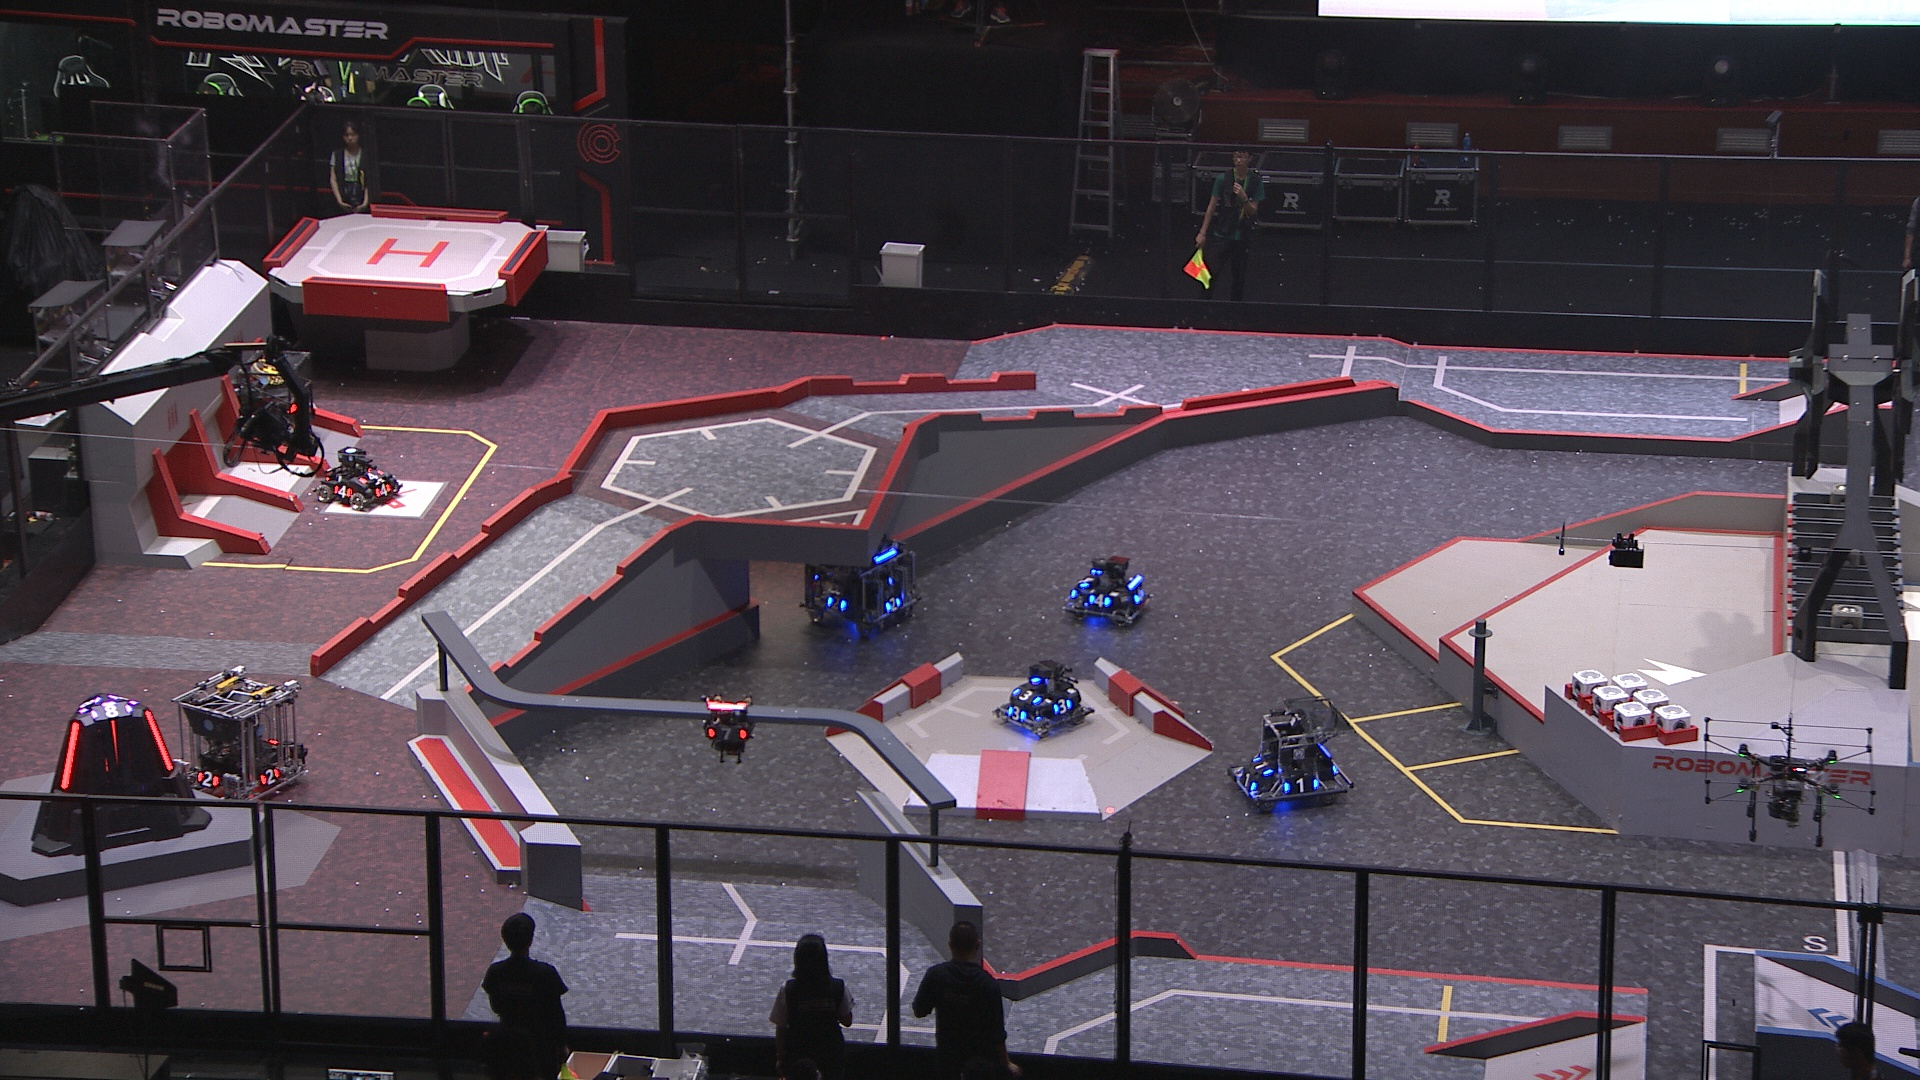armor: (57, 721, 82, 793), (144, 712, 171, 775), (704, 723, 750, 741), (1284, 777, 1321, 796), (107, 719, 120, 766), (823, 593, 851, 616), (1251, 756, 1273, 783), (193, 769, 222, 789), (1007, 688, 1040, 704), (1238, 770, 1259, 794), (258, 766, 282, 785), (330, 484, 353, 502), (1087, 591, 1112, 608), (357, 469, 382, 484), (373, 481, 392, 498), (1131, 585, 1147, 605), (1054, 698, 1073, 713), (1007, 707, 1027, 723), (1077, 572, 1093, 591), (884, 597, 902, 612)
base: (26, 694, 218, 856)
car: (174, 666, 310, 802), (1228, 698, 1356, 811), (798, 527, 922, 633), (229, 343, 320, 452), (992, 659, 1096, 737), (1063, 553, 1154, 632), (311, 442, 400, 516)
ignore: (88, 703, 131, 719)
watcher: (700, 692, 756, 766)
